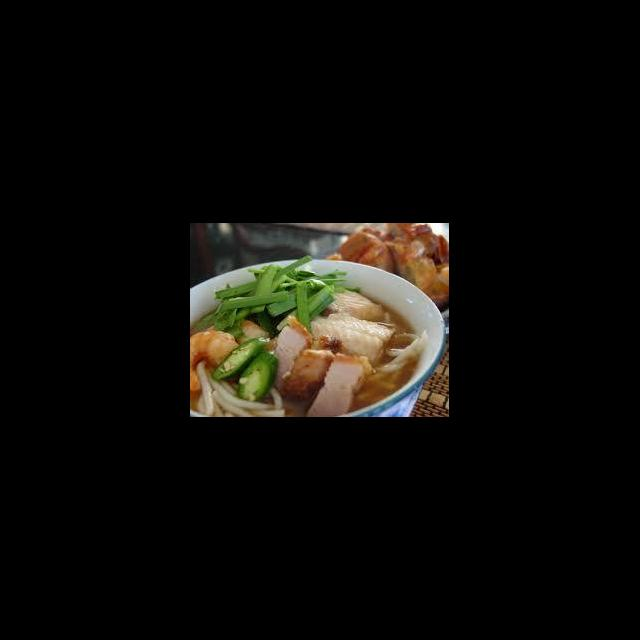bun: (195, 358, 292, 417)
ca: (302, 309, 398, 370), (322, 284, 386, 323)
thit heo quay: (302, 347, 376, 417), (266, 313, 318, 397)
tom: (192, 327, 244, 394)
